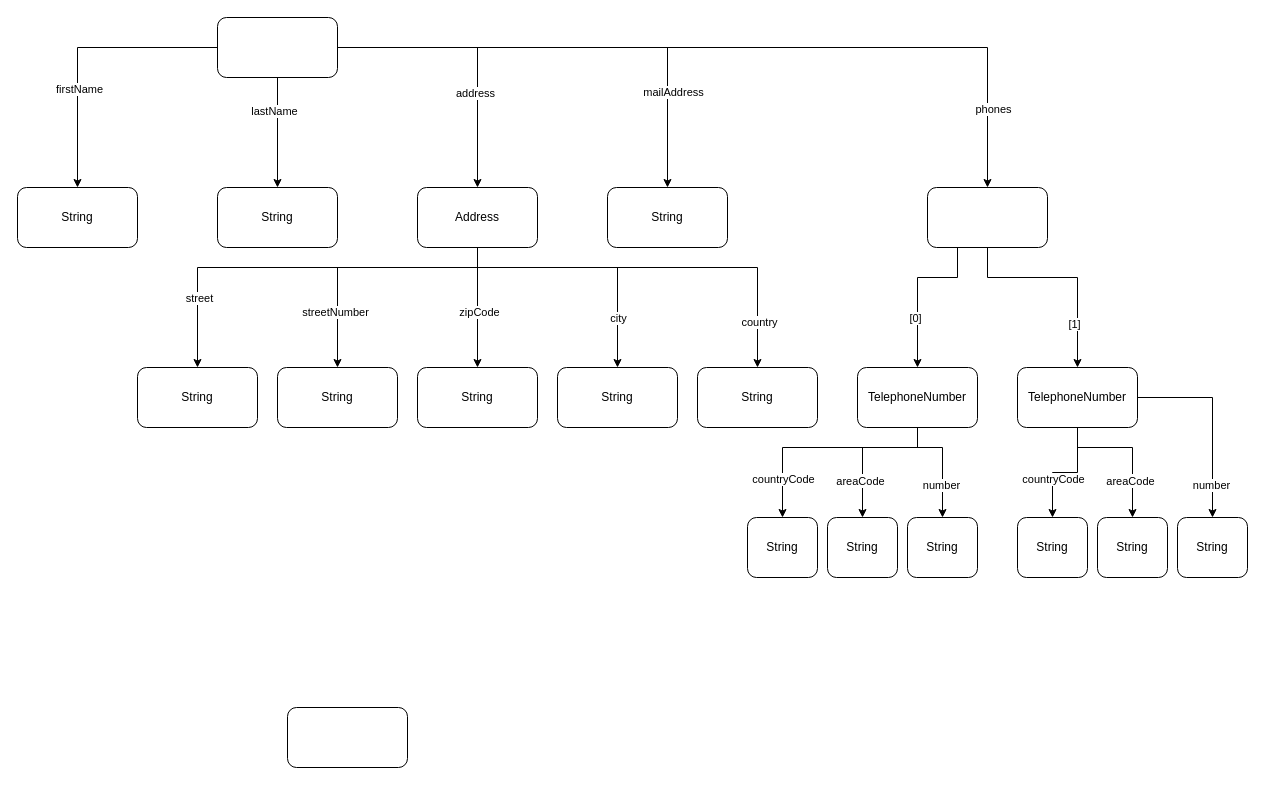
Some shapes in this 1265 by 785 pixel diagram are drawn without their labels. Here are the shapes that lost their labels. From the top down, the centre of each, then its label:
point (277, 47): Contact
point (987, 217): Array
point (347, 737): Copy of Contact
